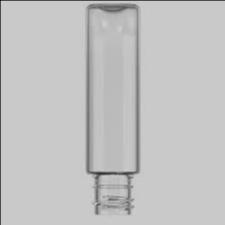Plastic: (82, 2, 143, 220)
